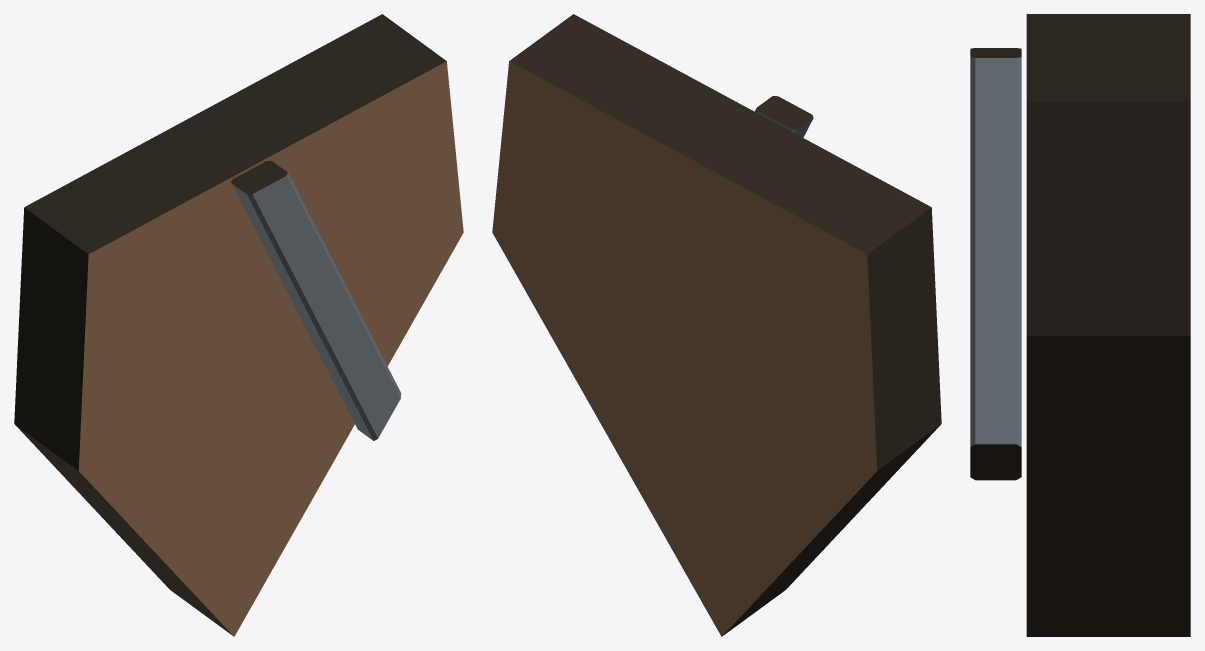
Rendered from SM_DoorShard_02_14.fbx.
3 renders of one model, left to right at view 1: azimuth 30°, elevation 25°; view 2: azimuth 150°, elevation 25°; view 3: azimuth 270°, elevation 25°, orthographic. The views are drawn at different scales.
Visible parts, largest first — view 1: SM_DoorShard_02_14; view 2: SM_DoorShard_02_14; view 3: SM_DoorShard_02_14.
Part boxes in pixels (bbox=[...]): SM_DoorShard_02_14: bbox=[14, 14, 463, 636]; SM_DoorShard_02_14: bbox=[492, 14, 941, 636]; SM_DoorShard_02_14: bbox=[970, 14, 1190, 636].
Size of the model in its own units: 55.18 by 21.5 by 71.77.
